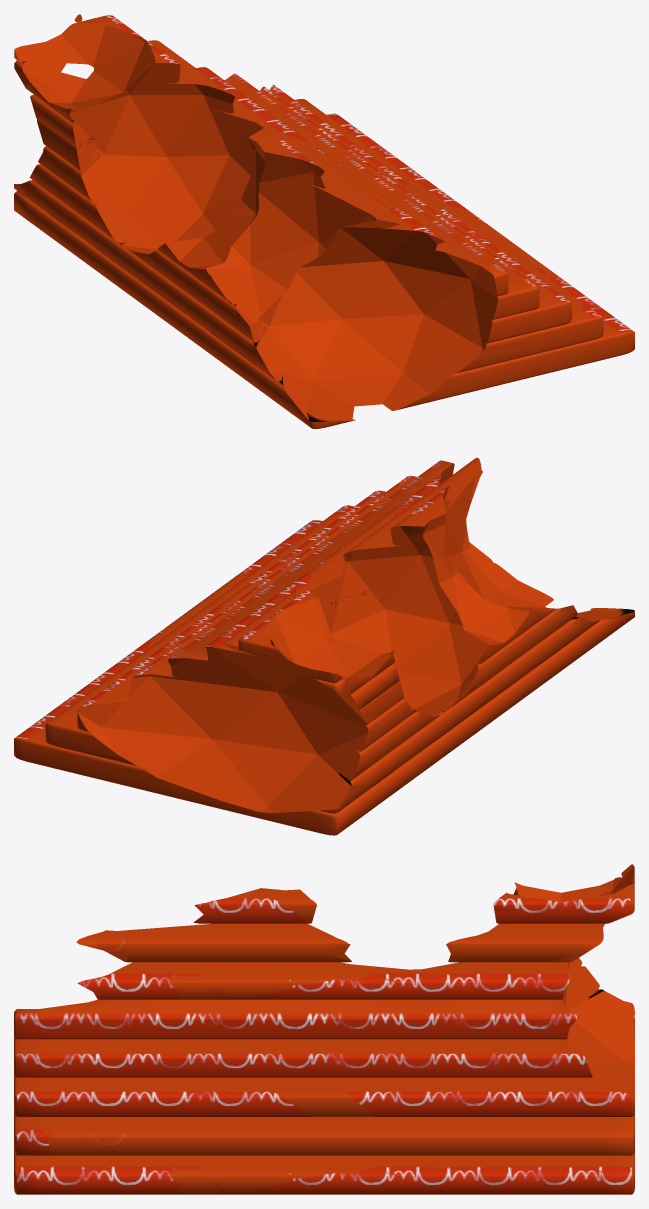
File: DamagedStairs.fbx
The picture shows the model from 3 angles, top to bottom: view 1: azimuth 30°, elevation 25°; view 2: azimuth 150°, elevation 25°; view 3: azimuth 270°, elevation 25°; orthographic projection. The views are drawn at different scales.
Parts seen in each view (by area): view 1: Stairs; view 2: Stairs; view 3: Stairs.
Boxes of the visible parts, x1,y1,x2,y2 form: Stairs: [14, 14, 634, 428]; Stairs: [14, 457, 634, 835]; Stairs: [14, 864, 634, 1194].
Size of what is drawn, in the model's own units: 372 by 200 by 596.
1 material, 1 textured.
